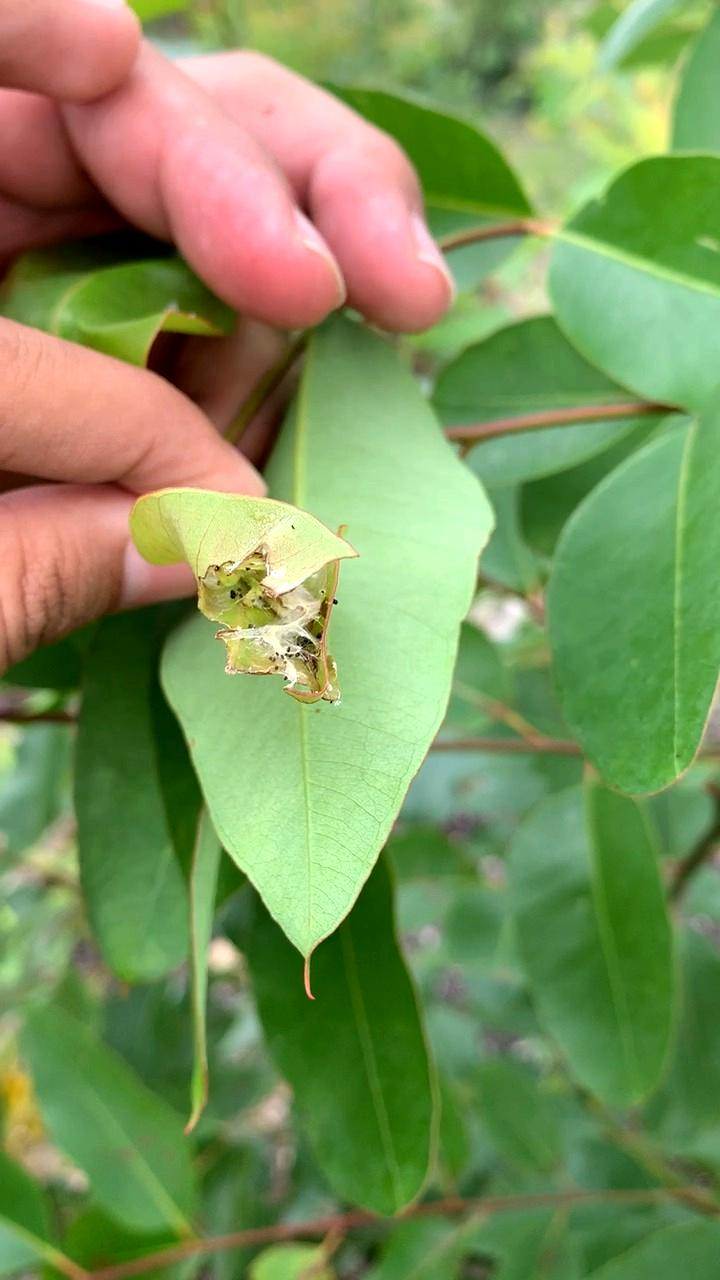Leaf Roller - Leaf: (123, 488, 355, 705)
